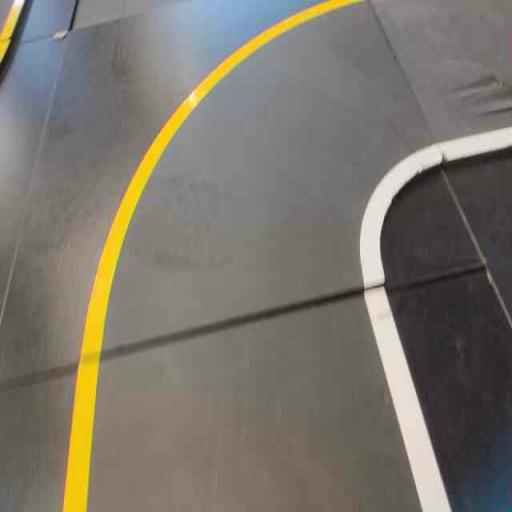right: (69, 0, 485, 364)
